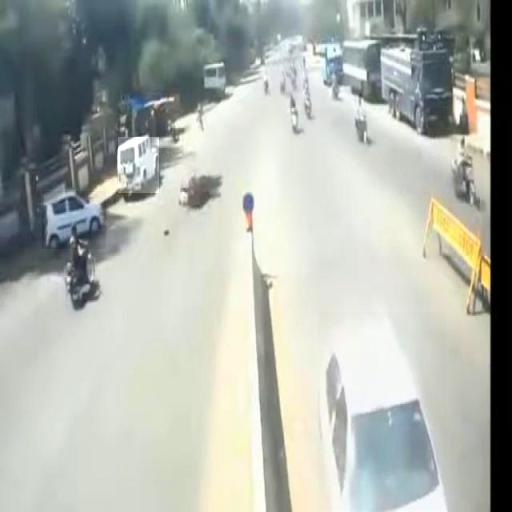小汽车: (318, 312, 447, 510), (42, 191, 106, 249), (118, 138, 159, 194)
自行车: (65, 224, 97, 302), (450, 138, 484, 204)
